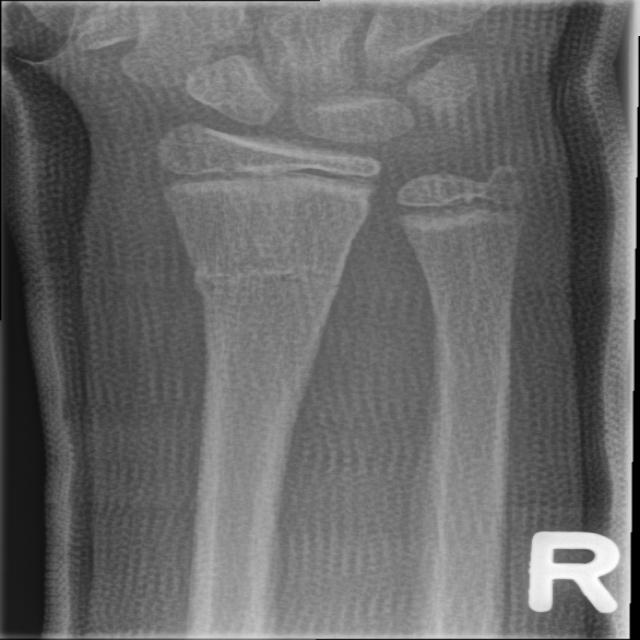radius fracture: (161, 214, 375, 353)
